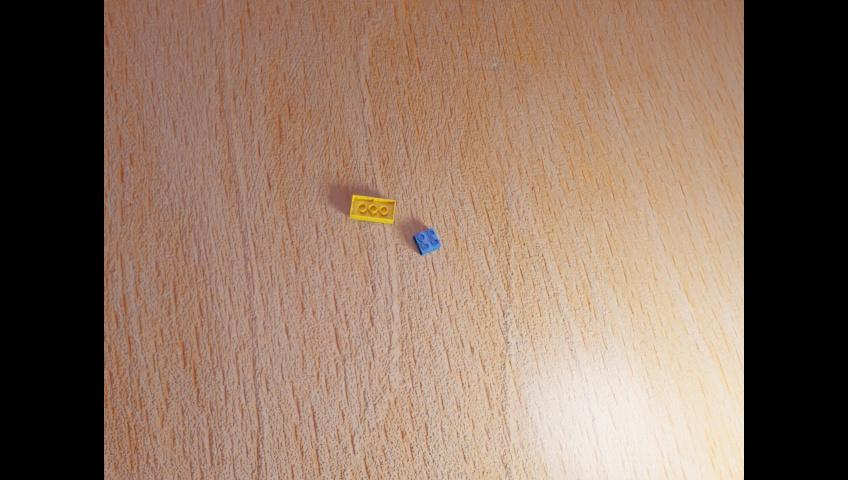2x2_blue: (413, 226, 440, 255)
4x2_yellow: (350, 194, 394, 223)
